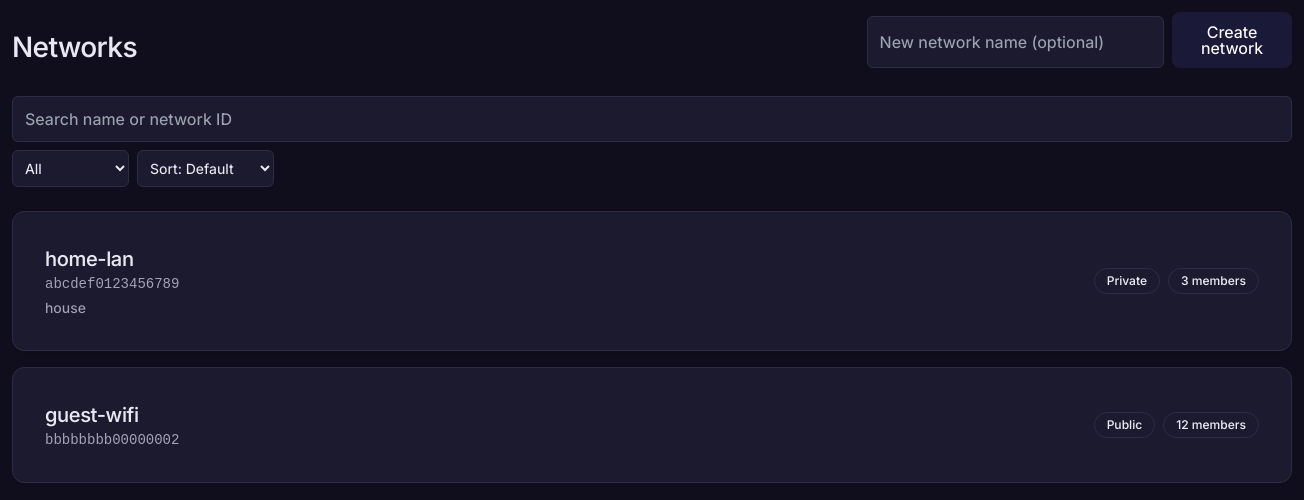
Test case: NetworkList › filters the list by search text
expect the text "home-lan" is shown: met, box [45,247,134,271]
expect the text "guest-wifi" is shown: met, box [45,403,139,427]
Type "guest" into the field named "search networks" at [652, 119], box [12,96,1292,142]
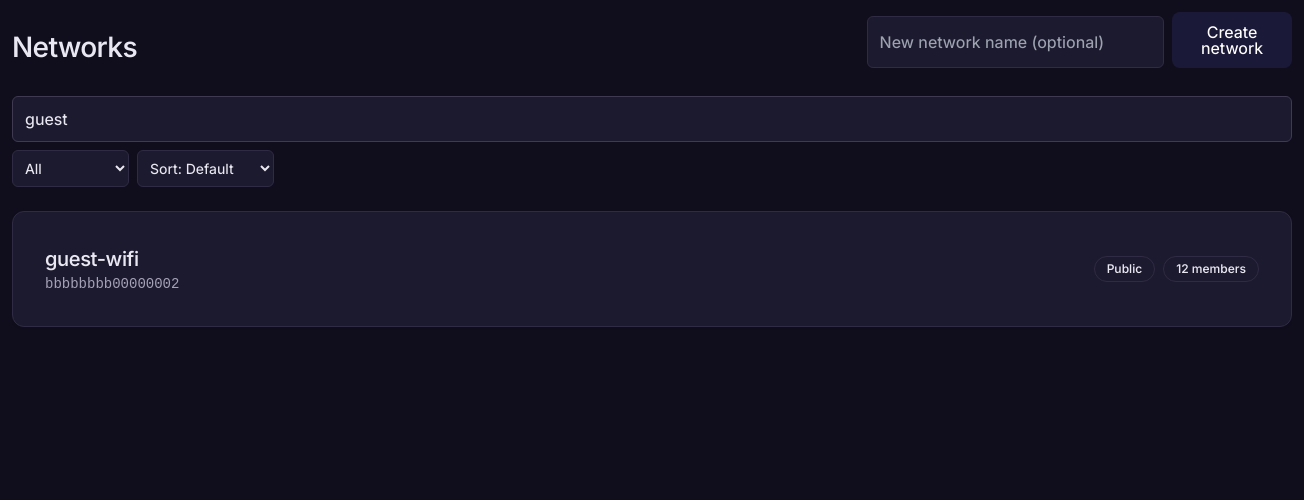
expect the text "guest-wifi" is shown: met, box [45,247,139,271]
expect the link "home-lan" is gone: met
